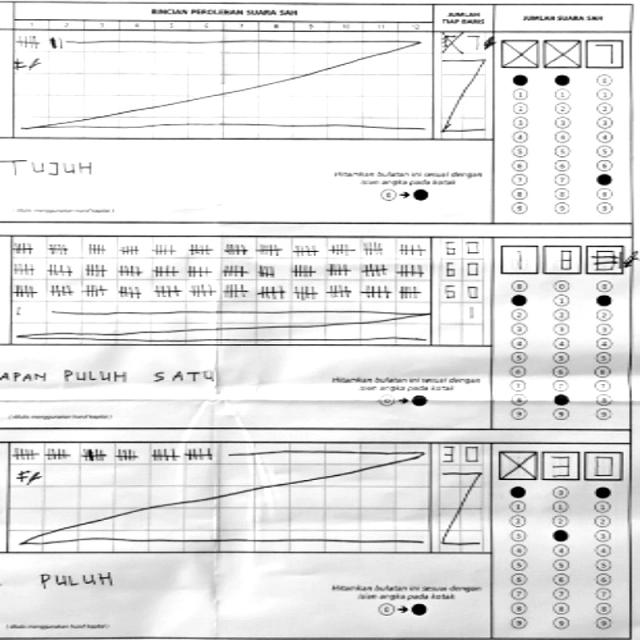Suara: (493, 442, 635, 486), (498, 238, 630, 279), (494, 30, 625, 70)
